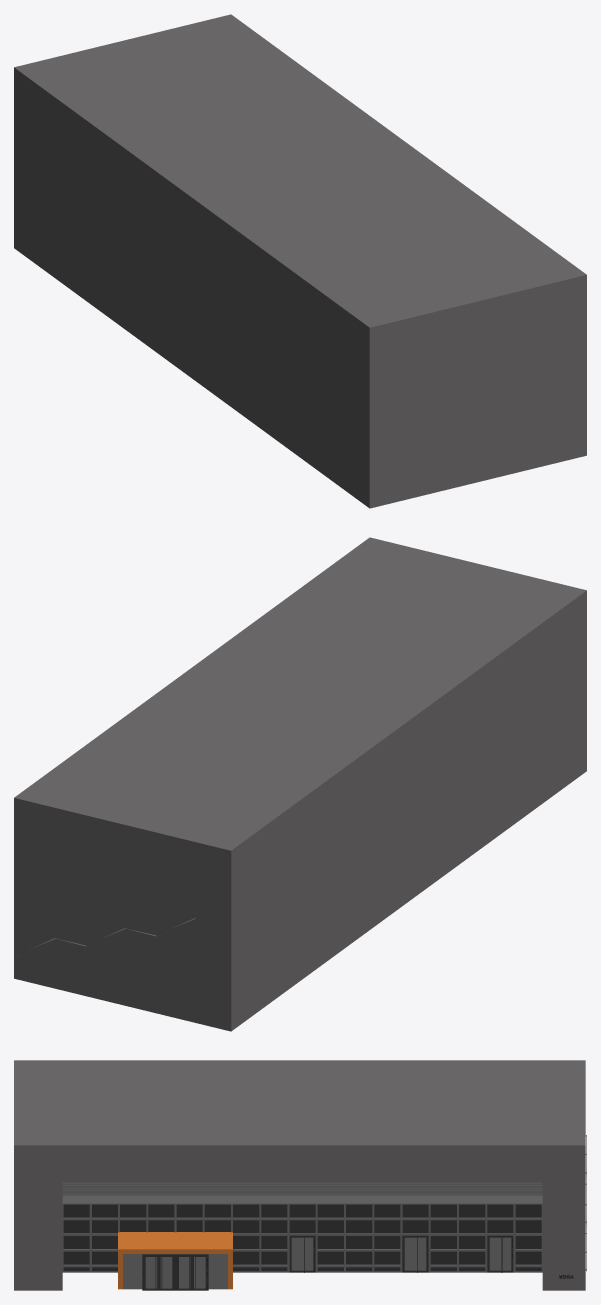
Rendered from Mensa.glb.
3 views of the same model, one above another, from view 1: azimuth 30°, elevation 25°; view 2: azimuth 150°, elevation 25°; view 3: azimuth 270°, elevation 25° (orthographic). The views are drawn at different scales.
Visible parts, largest first — view 1: Main Body; view 2: Main Body; view 3: Main Body, Body, Door, Door.001, Seitentür.001, Seitentür, Seitentür.002.
Part boxes in pixels (bbox=[...]): Main Body: bbox=[14, 14, 586, 508]; Main Body: bbox=[14, 537, 586, 1031]; Main Body: bbox=[14, 1060, 585, 1290]; Body: bbox=[118, 1232, 232, 1289]; Door: bbox=[142, 1254, 175, 1290]; Door.001: bbox=[175, 1254, 208, 1290]; Seitentür.001: bbox=[402, 1235, 428, 1272]; Seitentür: bbox=[289, 1235, 315, 1272]; Seitentür.002: bbox=[487, 1235, 513, 1272].
Size of the model in its own units: 106 by 84.24 by 301.
